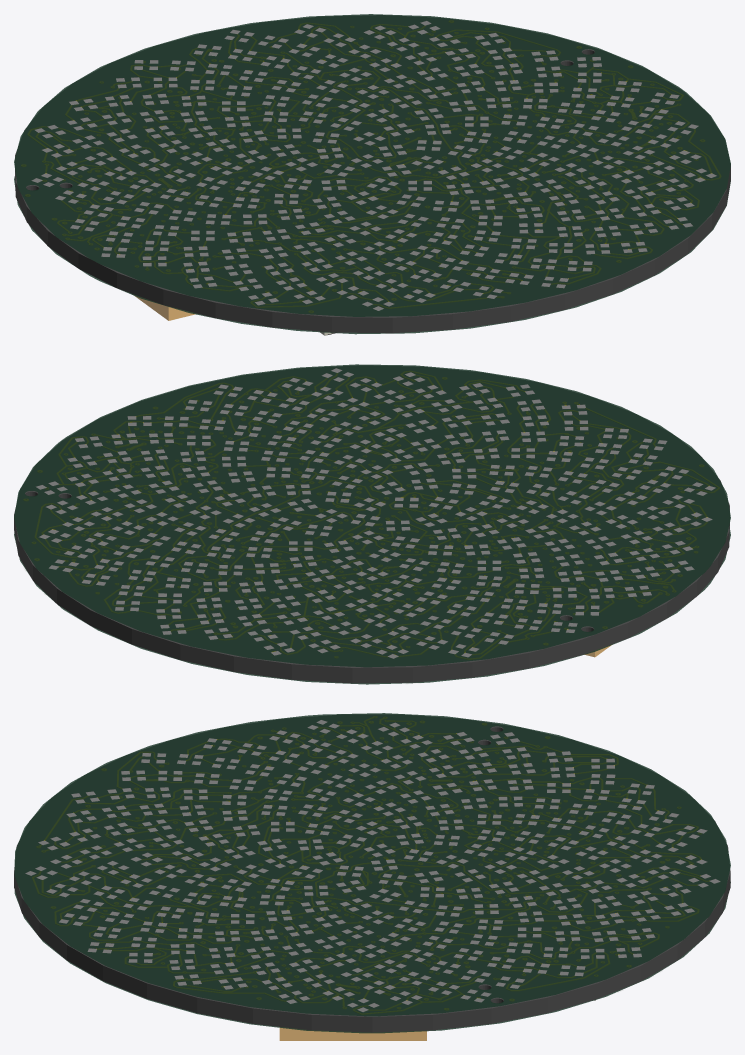
Rendered from board.glb.
The picture shows the model from 3 angles, top to bottom: view 1: azimuth 30°, elevation 25°; view 2: azimuth 150°, elevation 25°; view 3: azimuth 270°, elevation 25°; orthographic projection.
Parts seen in each view (by area): view 1: round-pendant_soldermask (×2), round-pendant_PCB, round-pendant_pad, round-pendant_copper; view 2: round-pendant_soldermask (×2), round-pendant_PCB, round-pendant_pad, round-pendant_copper; view 3: round-pendant_soldermask (×2), round-pendant_PCB, round-pendant_pad, round-pendant_copper, U2.
Part boxes in pixels (left/top/right/bottom): round-pendant_soldermask (×2): left=14, top=14, right=730, bottom=334; round-pendant_PCB: left=15, top=15, right=730, bottom=333; round-pendant_pad: left=31, top=21, right=716, bottom=311; round-pendant_copper: left=21, top=21, right=720, bottom=312; round-pendant_soldermask (×2): left=14, top=364, right=730, bottom=684; round-pendant_PCB: left=14, top=366, right=729, bottom=683; round-pendant_pad: left=36, top=368, right=715, bottom=658; round-pendant_copper: left=24, top=371, right=719, bottom=659; round-pendant_soldermask (×2): left=14, top=713, right=730, bottom=1033; round-pendant_PCB: left=14, top=715, right=730, bottom=1032; round-pendant_pad: left=25, top=720, right=720, bottom=1012; round-pendant_copper: left=32, top=717, right=709, bottom=1014; U2: left=279, top=1027, right=426, bottom=1040.
Bounding box in the file's own units: 0.038 × 0.00354 × 0.038.
